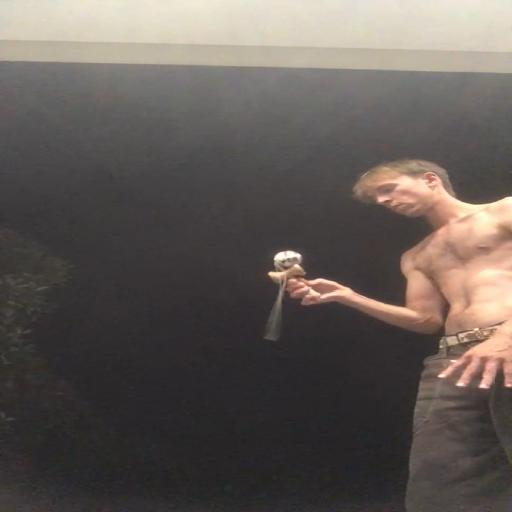kendama_ball: (273, 250, 304, 269)
